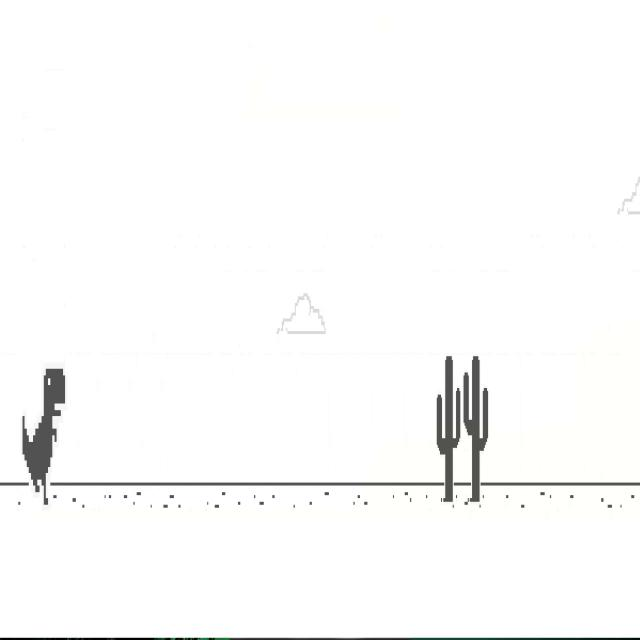cacto: (463, 354, 489, 503), (436, 354, 461, 503)
dino: (21, 368, 66, 507)
